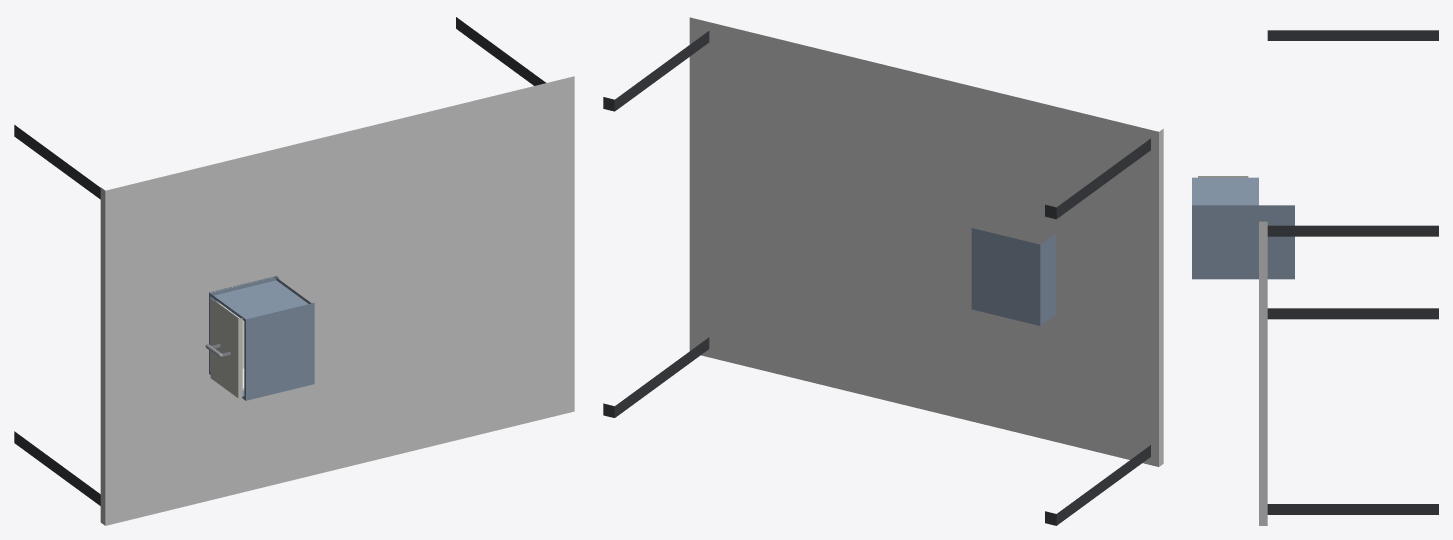
The model's file is t2_ebe8b434f6.glb.
3 renders of one model, left to right at view 1: azimuth 30°, elevation 25°; view 2: azimuth 150°, elevation 25°; view 3: azimuth 270°, elevation 25°, orthographic. The views are drawn at different scales.
Parts seen in each view (by area): view 1: s0, s1, s2; view 2: s0, s1; view 3: s0, s1.
Boxes of the visible parts, x1,y1,x2,y2 form: s0: [14, 17, 574, 525]; s1: [209, 275, 314, 400]; s2: [205, 299, 244, 398]; s0: [603, 17, 1163, 525]; s1: [971, 228, 1055, 325]; s0: [1259, 30, 1438, 525]; s1: [1192, 177, 1294, 279].
Size of the model in its own units: 2.05 by 1.4 by 1.03.
